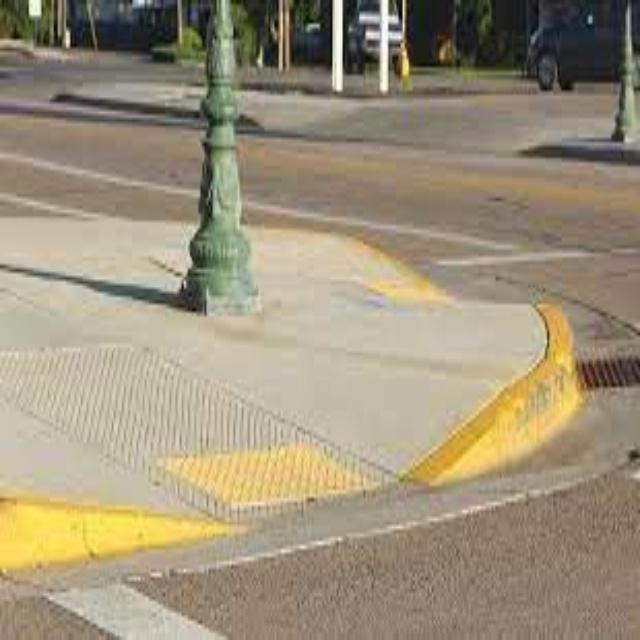curb: (403, 302, 583, 485), (0, 496, 231, 572), (0, 100, 203, 128), (50, 92, 200, 118), (238, 125, 411, 144), (518, 142, 639, 165), (240, 115, 261, 128)
